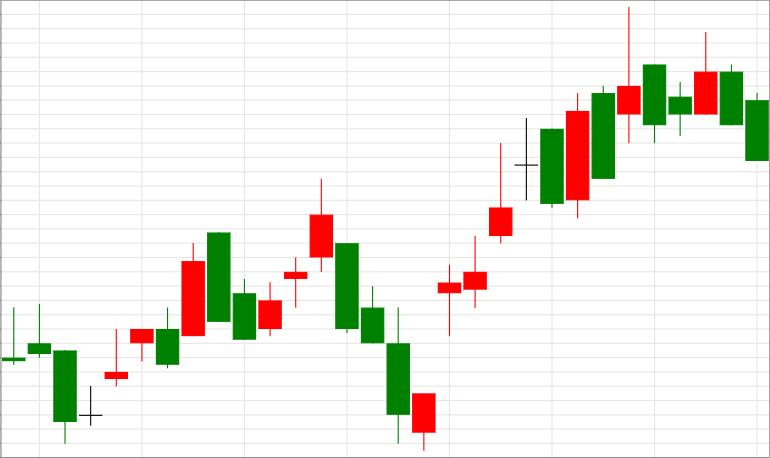shooting_star_fall: (412, 8, 640, 453), (412, 144, 512, 452)
